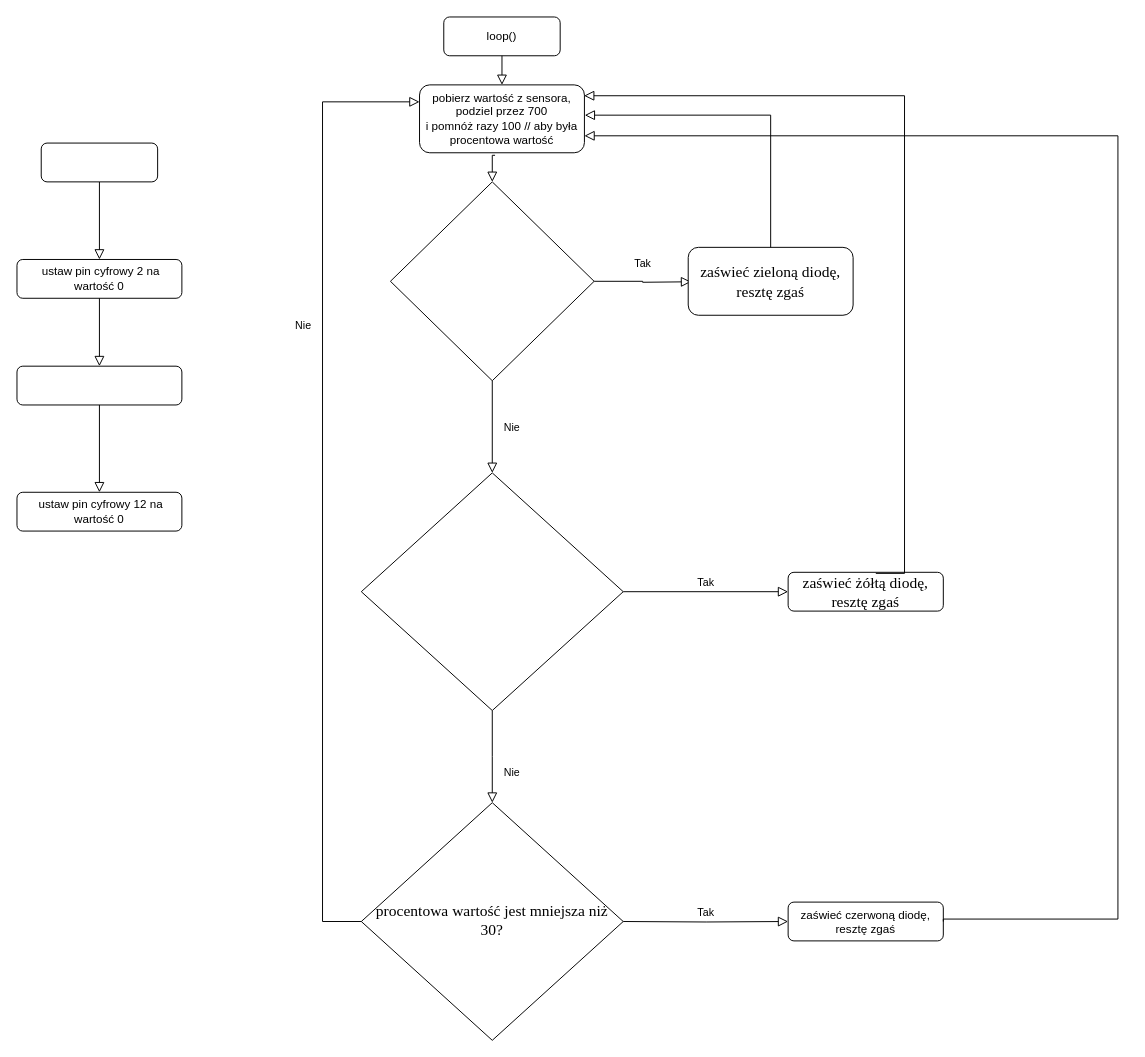
Some shapes in this 1145 by 1057 pixel diagram are drawn without their labels. Each missing label, with the centre of its shape:
procentowa wartość jest większa bądź równa 30 i mniejsza niż 80?: the point at 491,591
procentowa wartość jest większa bądź równa 80?: the point at 491,281
setup(): the point at 99,162
ustaw pin cyfrowy 8 na wartość 0: the point at 99,385
